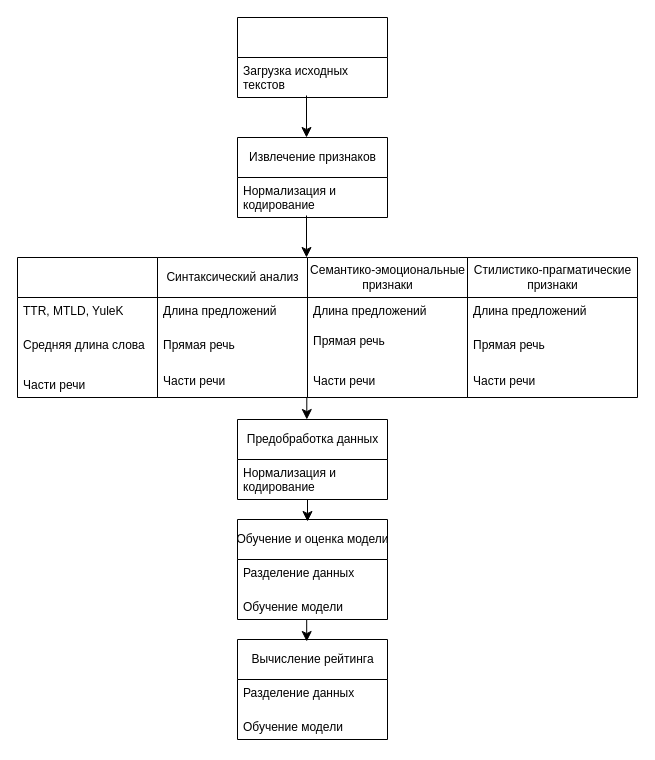
This 655x760 diagram has some shape labels left out. Here are the shapes that lost their labels. From the top down, the box of each, then its label:
(236, 16, 388, 98): Загрузка текстов
(16, 256, 158, 398): Лексический анализ
